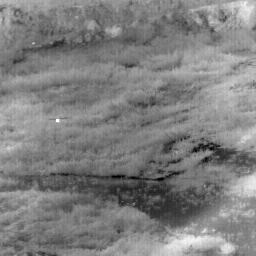aircraft: (56, 120, 58, 122)
